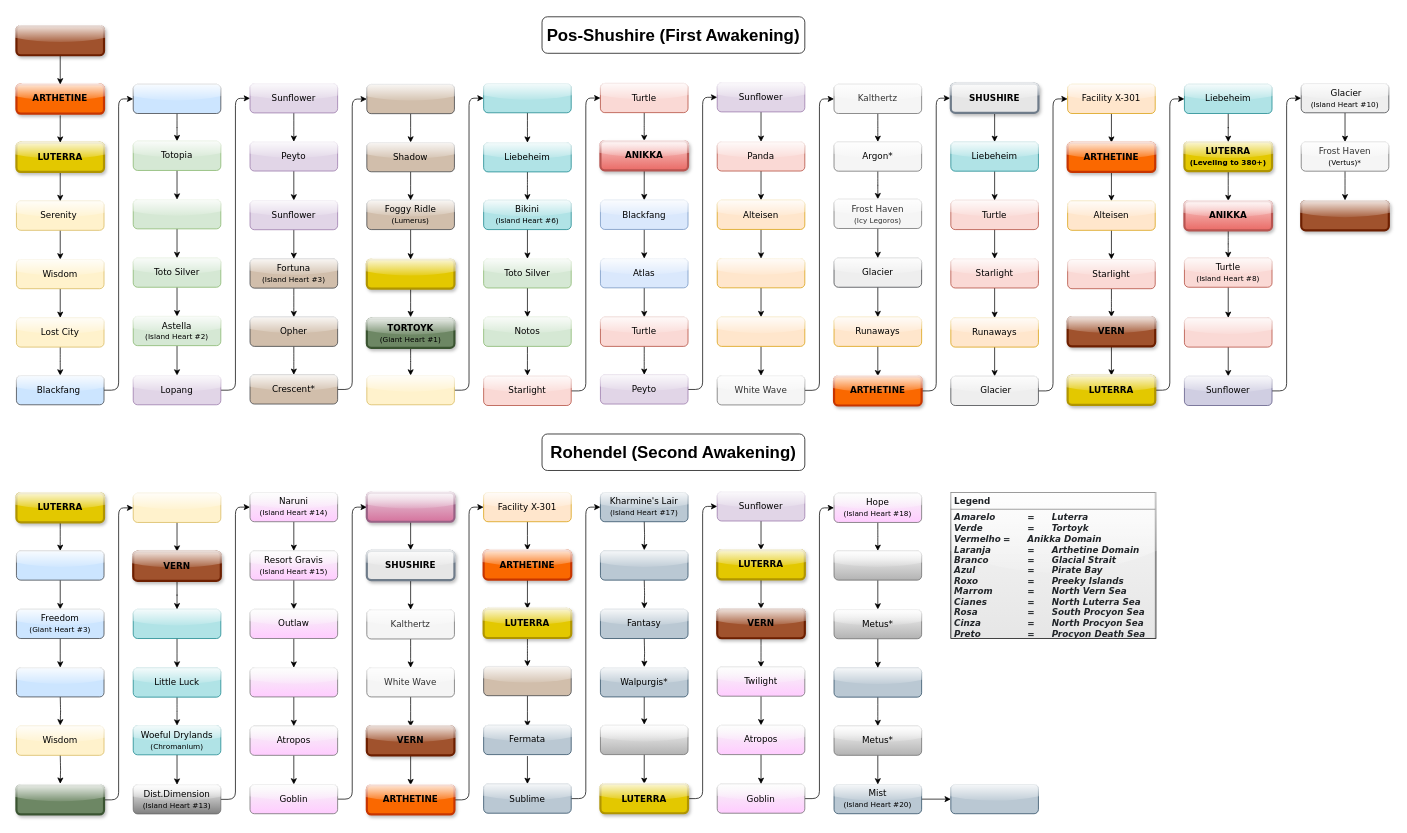
This 1407x833 diagram has some shape labels left out. The shapes that lost their labels are listed below. From the top down, each one's centre as x and y in pixels, then its label:
At (x=60, y=41): "VERN (Ur'nil)".
At (x=176, y=99): "Freedom".
At (x=410, y=99): "Dreamgull".
At (x=527, y=98): "Pomona (Island Heart #5)".
At (x=176, y=214): "Mushroom*".
At (x=1345, y=216): "VERN (Leveling to 460+)".
At (x=411, y=275): "LUTERRA (Leveling to 340+)".
At (x=760, y=273): "Golden Wave (Island Heart #7)".
At (x=760, y=331): "Slime*".
At (x=1228, y=332): "Starlight (Island Heart #9)".
At (x=410, y=390): "Serenity (Island Heart #4)".
At (x=176, y=507): "Wisdom (Island Heart #12)".
At (x=411, y=508): "ROHENDEL".
At (x=60, y=565): "Blackfang (Giant Heart #2)".
At (x=644, y=565): "Dooky Corp".
At (x=877, y=565): "Promise (Island Heart #19)".
At (x=176, y=624): "Revelry Row".
At (x=60, y=682): "Reminiscence (Island Heart #11)".
At (x=293, y=682): "Eye of Hypnos".
At (x=527, y=681): "Shadow (Island Heart #16)".
At (x=877, y=682): "Yearning".
At (x=644, y=740): "Promise".
At (x=60, y=800): "TORTOYK".
At (x=994, y=799): "Shadow Market".
